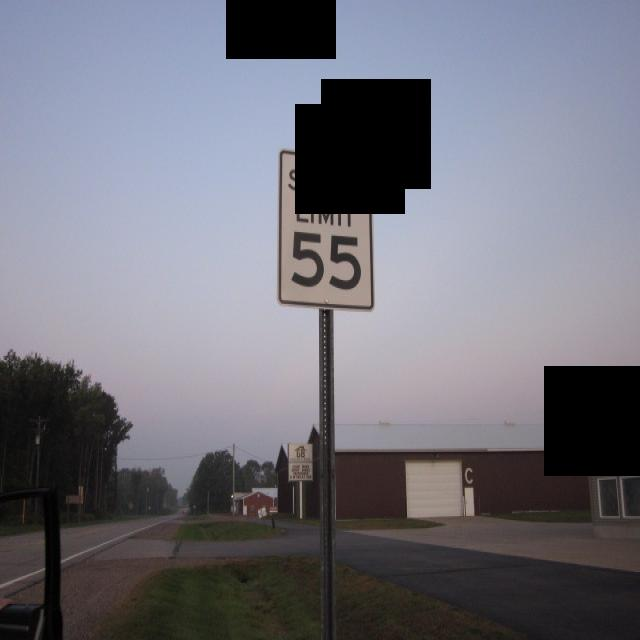regulatory: (273, 142, 378, 316)
